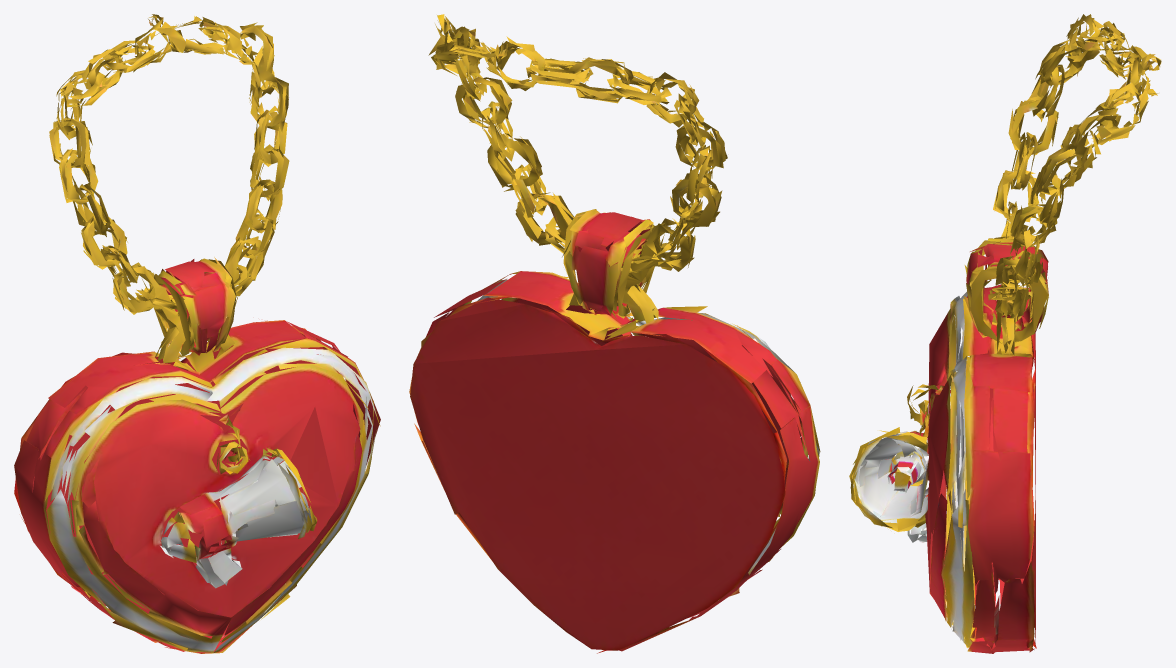
Rendered from gear_spirit_necklace.glb.
The picture shows the model from 3 angles, left to right: view 1: azimuth 30°, elevation 25°; view 2: azimuth 150°, elevation 25°; view 3: azimuth 270°, elevation 25°; orthographic projection. The views are drawn at different scales.
Parts seen in each view (by area): view 1: gear_spirit_necklace; view 2: gear_spirit_necklace; view 3: gear_spirit_necklace.
Part boxes in pixels (<box>): gear_spirit_necklace: <box>14,14,380,653</box>; gear_spirit_necklace: <box>409,14,820,653</box>; gear_spirit_necklace: <box>849,14,1161,653</box>.
Size of the model in its own units: 0.3071 by 0.5002 by 0.232.
1 material, 1 textured.
